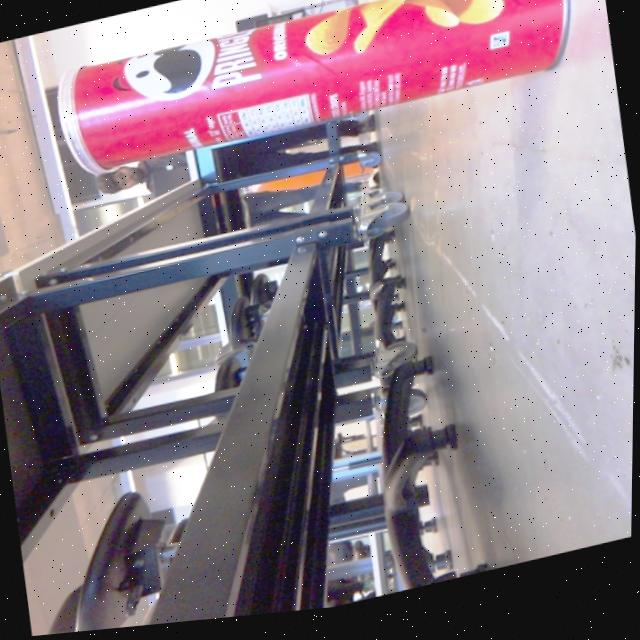greenpringles: (42, 0, 611, 202)
